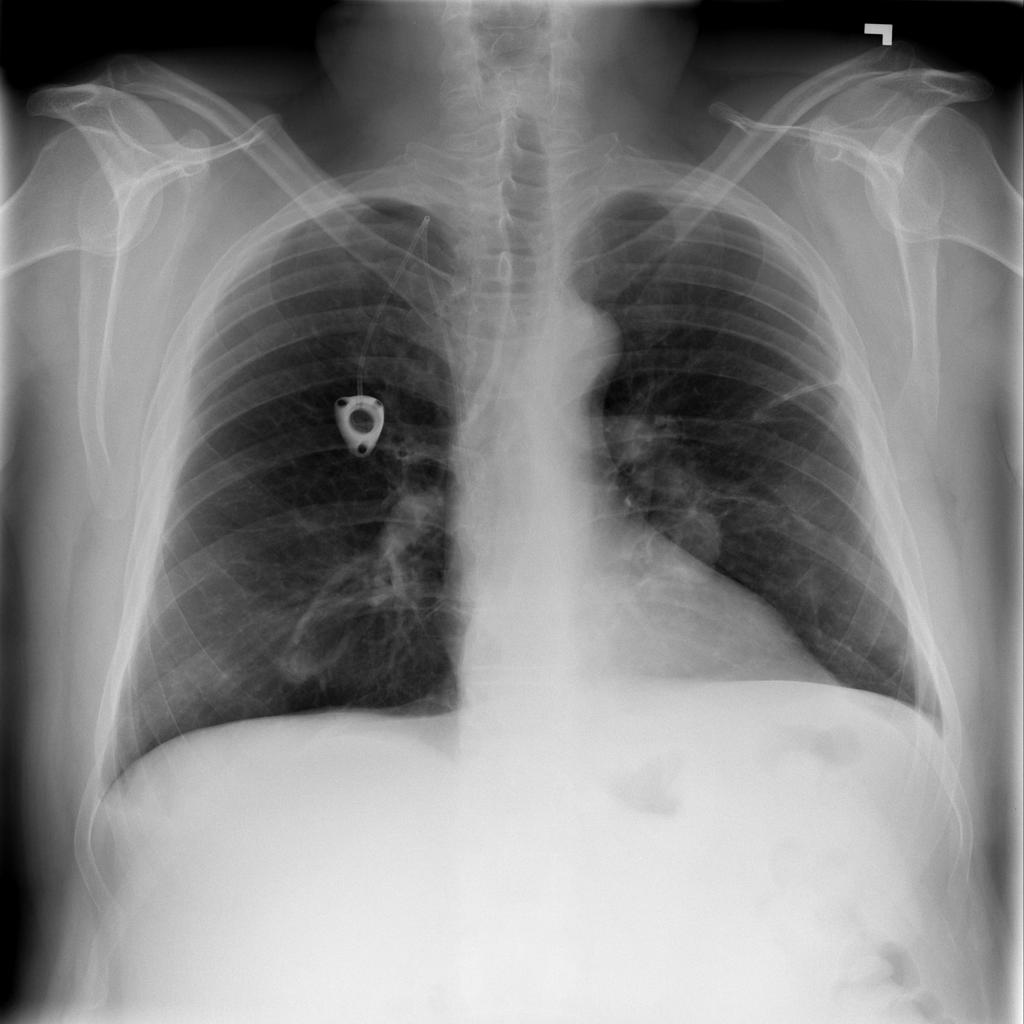nodule: (622, 488, 739, 597)
